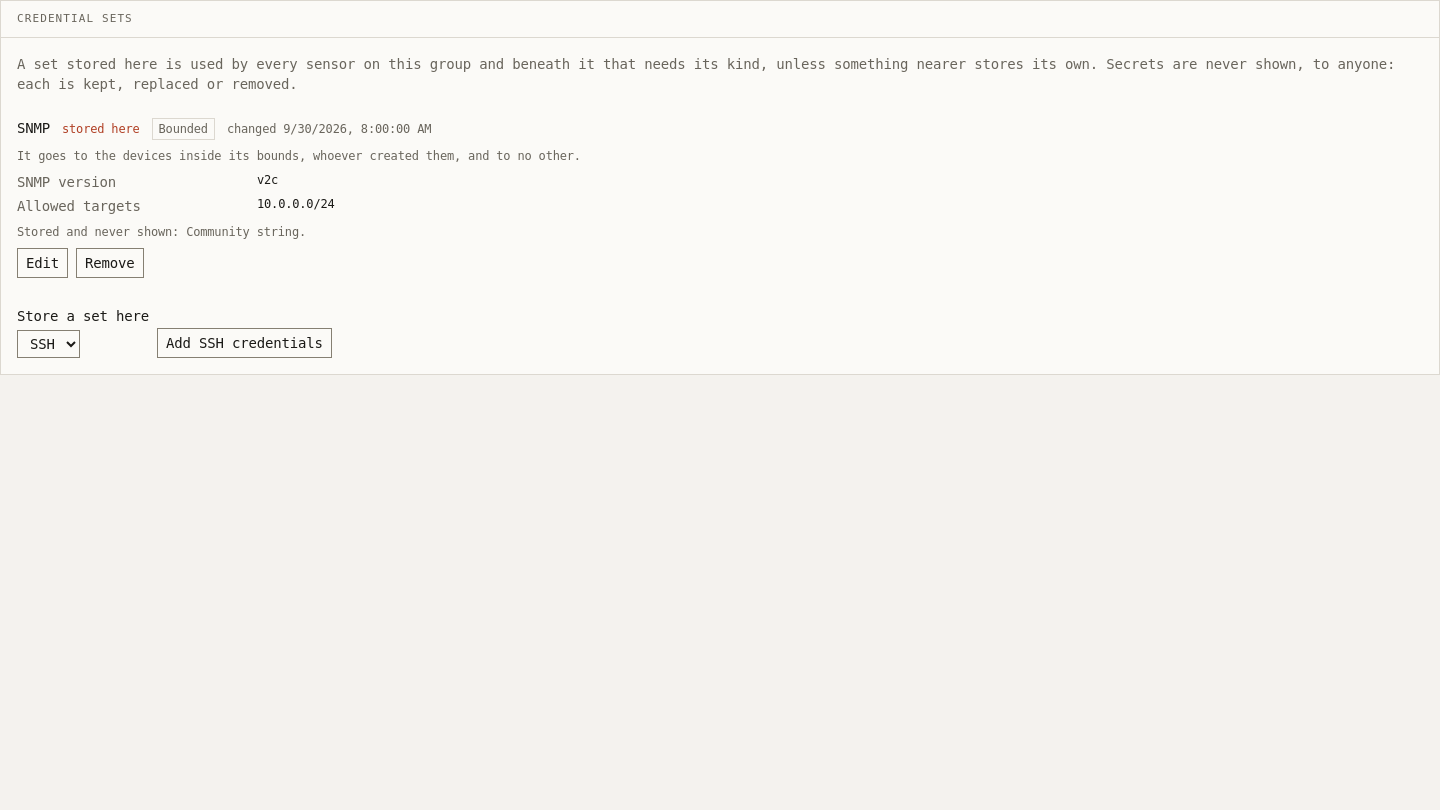
Test: the credentials tab › a secret in the form › is replaced by a value typed after Replace, sent in the body and never in the address
The image size is (1440, 810).
Expected: the heading "Credential sets" is shown, [17, 11, 133, 27]
Click the button named "Edit SNMP credentials" at (42, 263), box [17, 248, 68, 278]
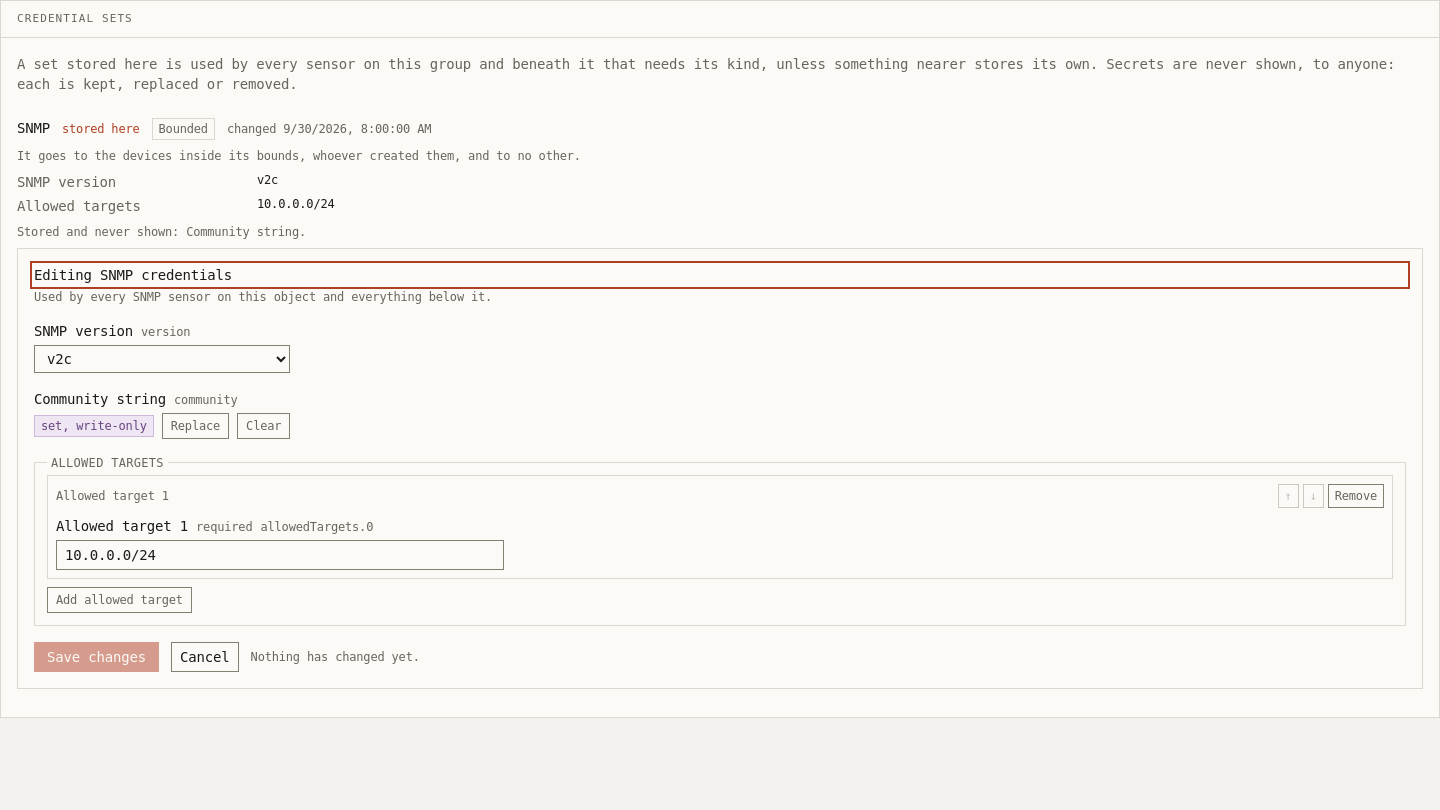
Click the button with aria-label "Replace Community string" at (195, 426), box [162, 413, 229, 439]
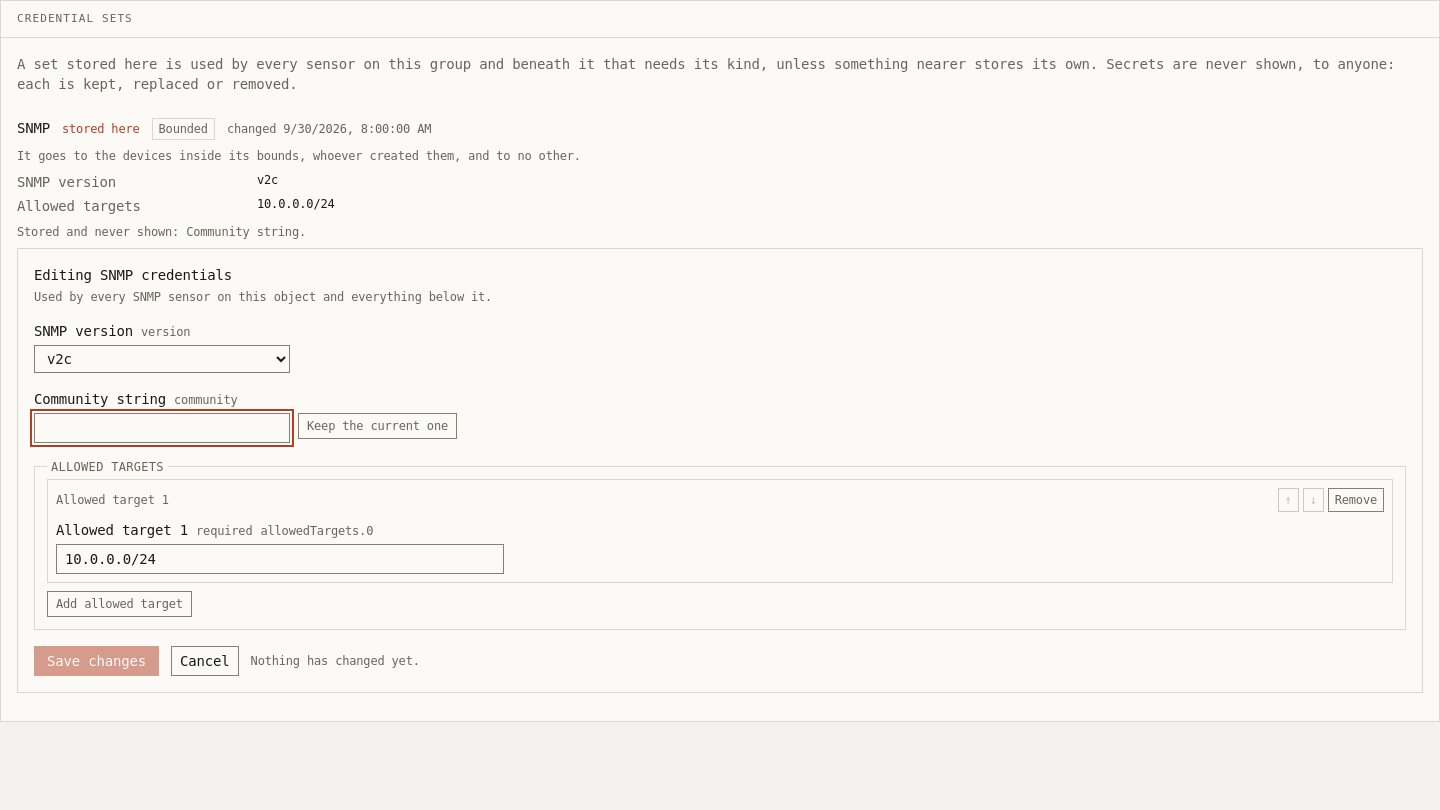
Type "a-very-distinctive-community" into the password field labelled "Community string" at (162, 428), box [34, 413, 290, 443]
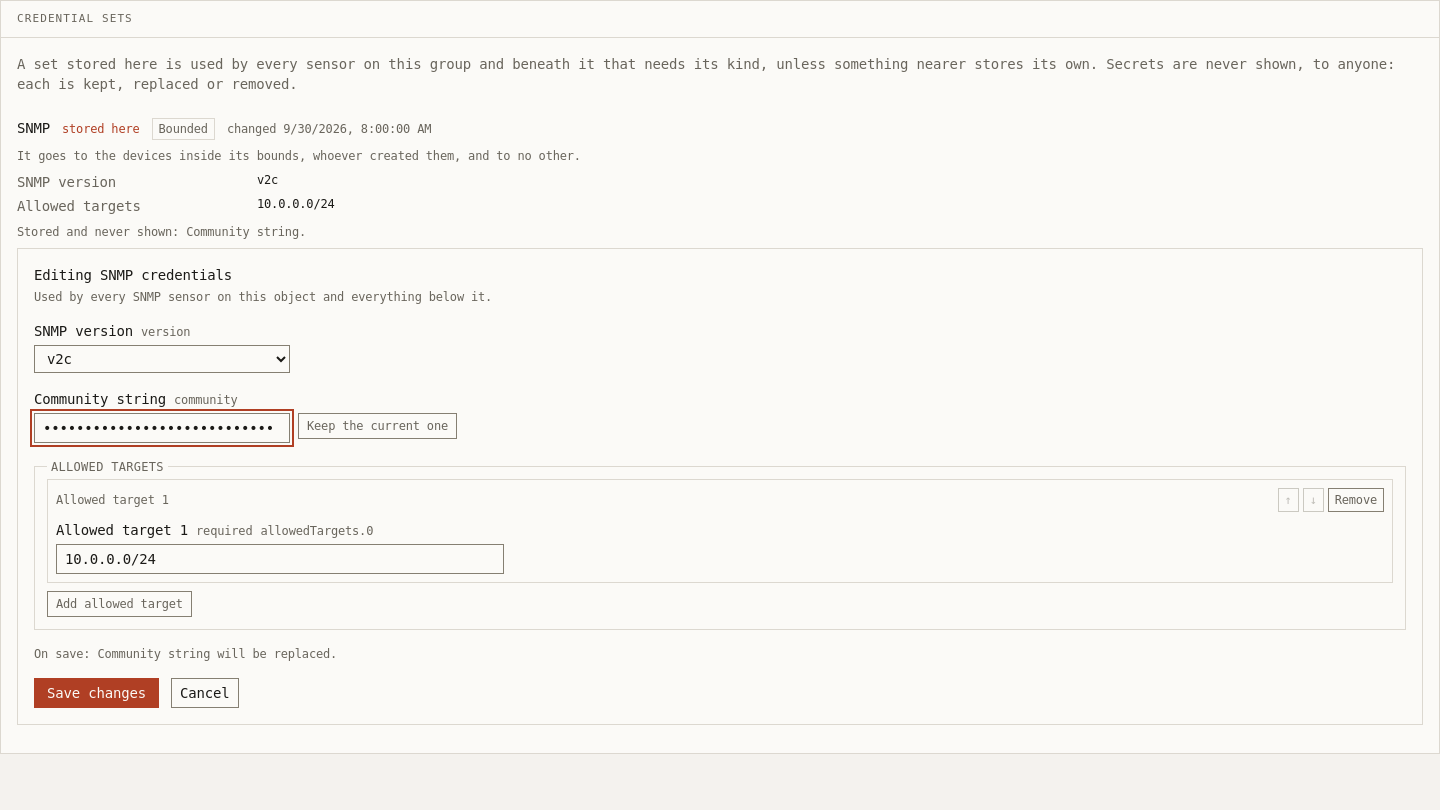
Result: the text "On save: Community string will be replaced." is shown at [34, 647, 337, 661]
Click the button "Save changes" at (96, 693), box [34, 678, 159, 708]
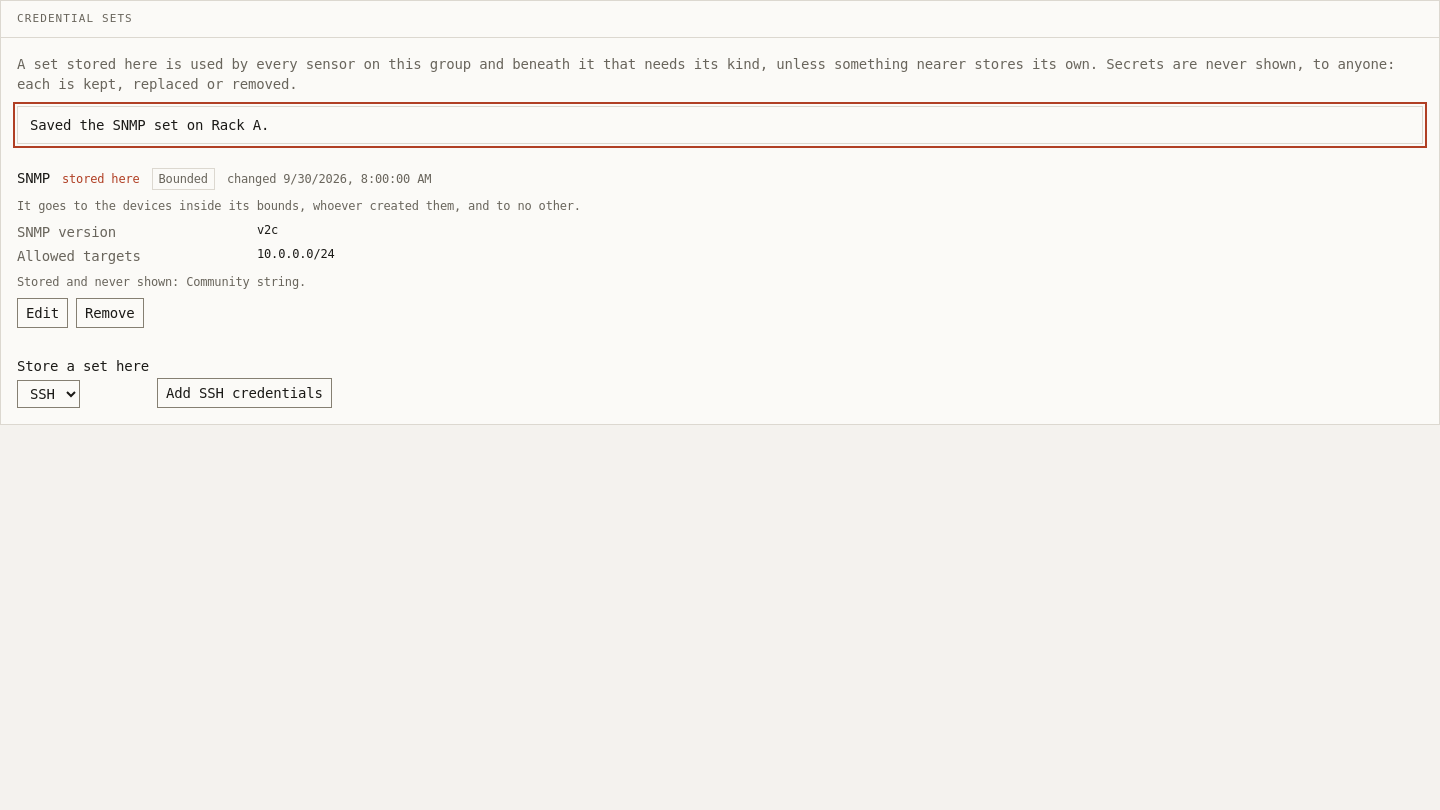
Result: the form is gone
